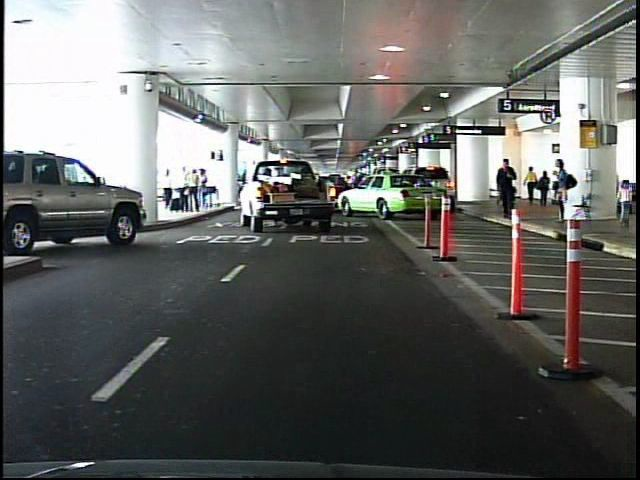person: (548, 156, 574, 226), (495, 156, 517, 220), (614, 177, 632, 228), (539, 171, 551, 208), (526, 166, 537, 204)
